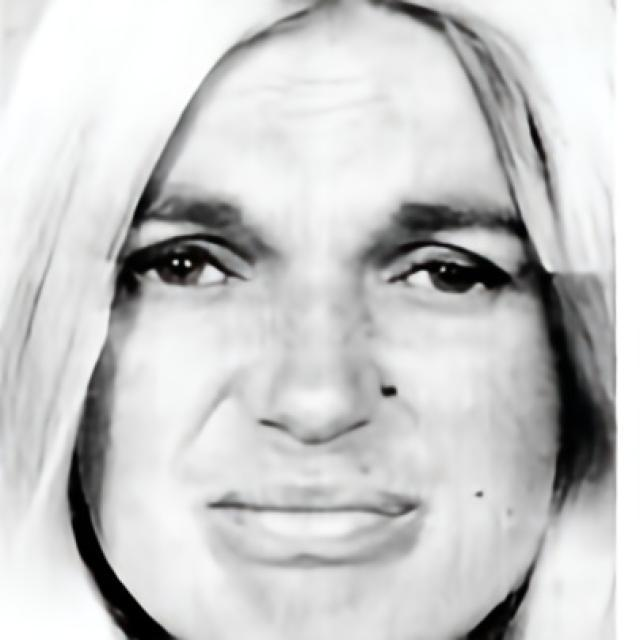disgust: (73, 0, 560, 640)
